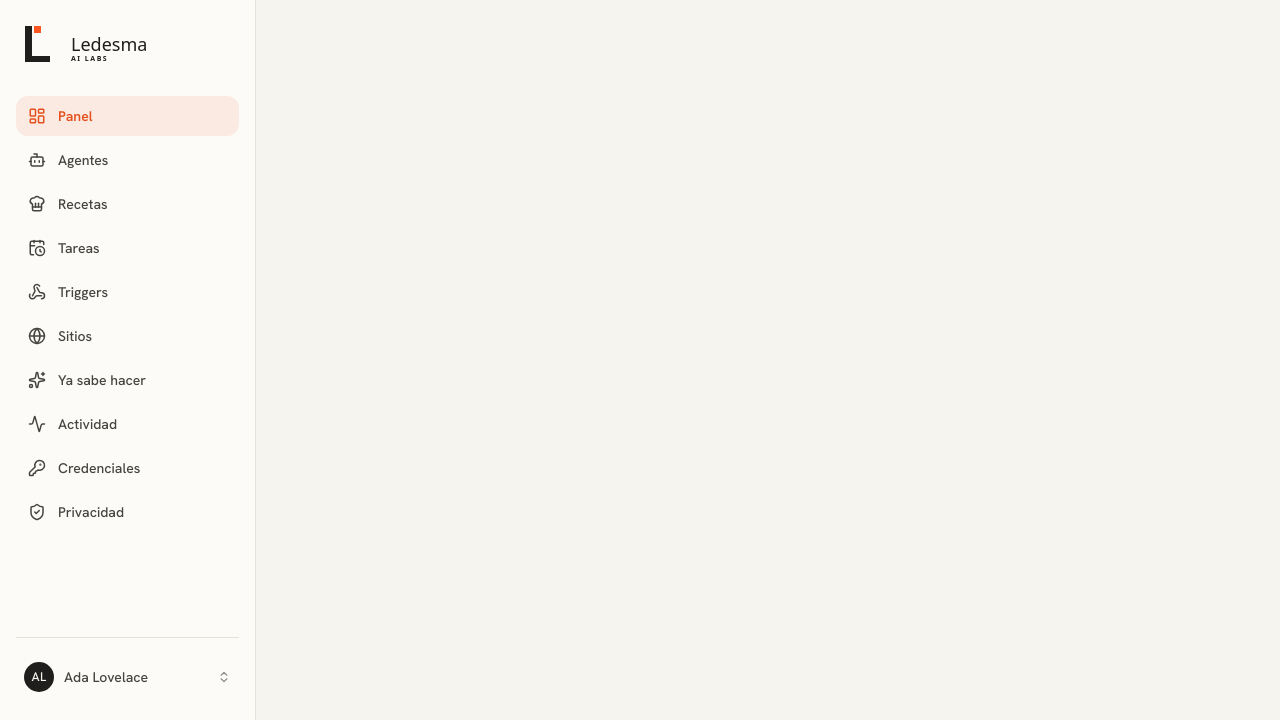
Test: UserMenu (menu de usuario del footer del sidebar) › se cierra al hacer clic afuera (click-away)
Click the button "AL Ada Lovelace".
click(128, 677)  # box [16,654,239,700]
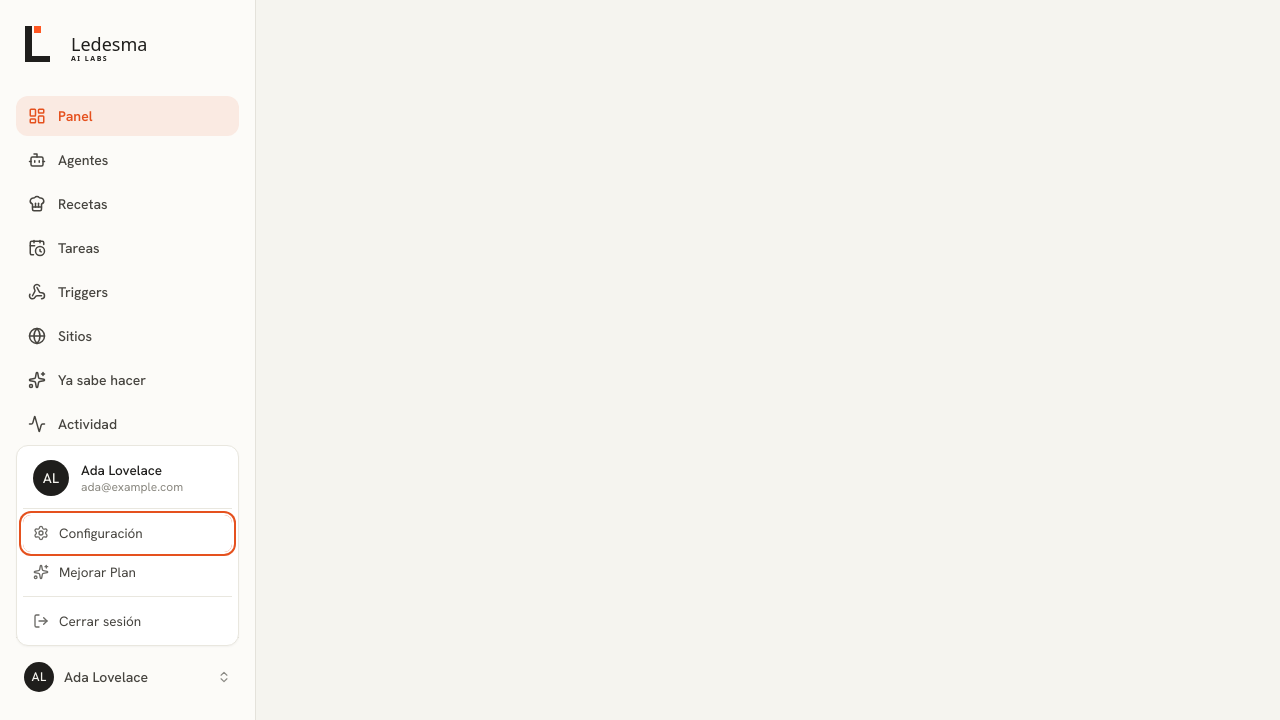
Now the menu is shown, box [16,445,239,646]
Press the mouse on the element that starts with "Ledesma" at [640, 360], box [0,0,1279,719]
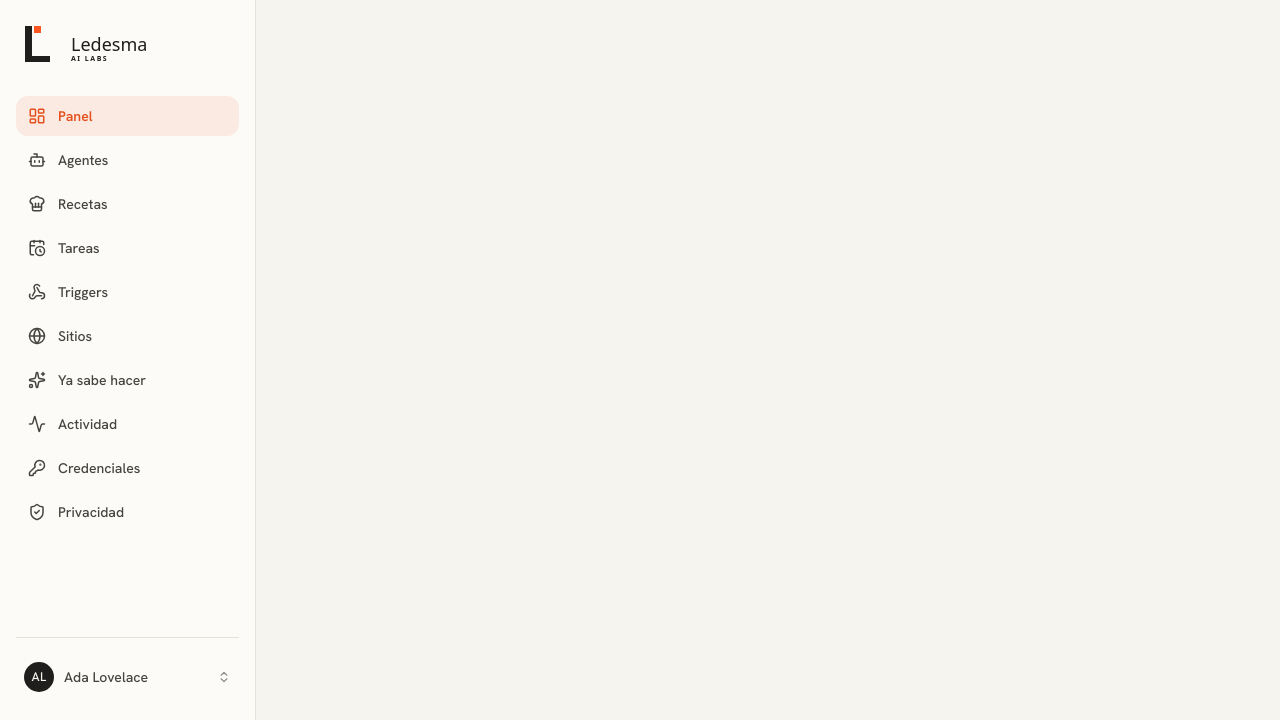
Now the menu is gone
